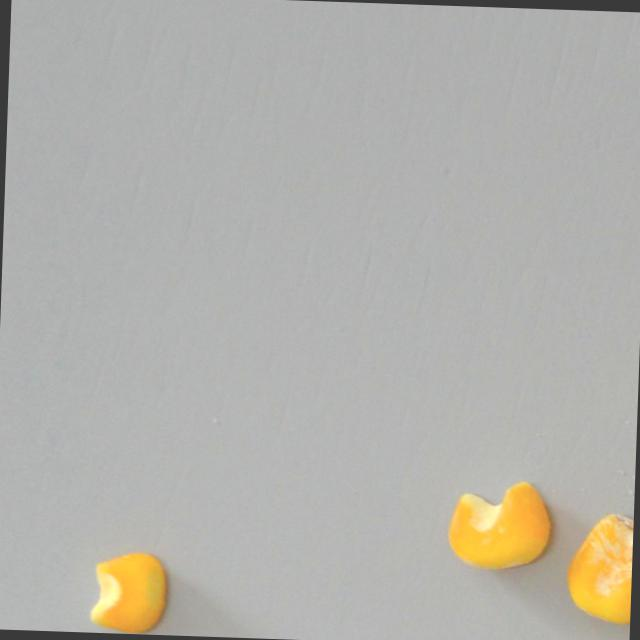dañado: (557, 508, 634, 626)
no_desgerminado: (85, 548, 171, 635)
pelicula: (443, 476, 555, 576)
